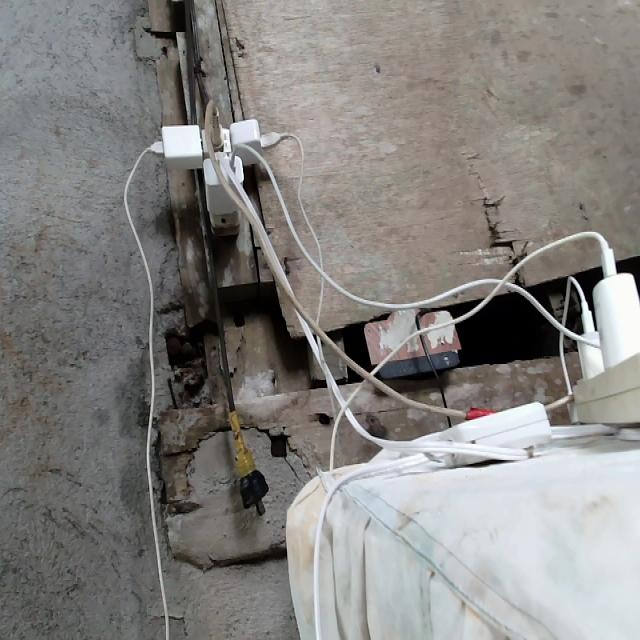-: (147, 96, 279, 235)
